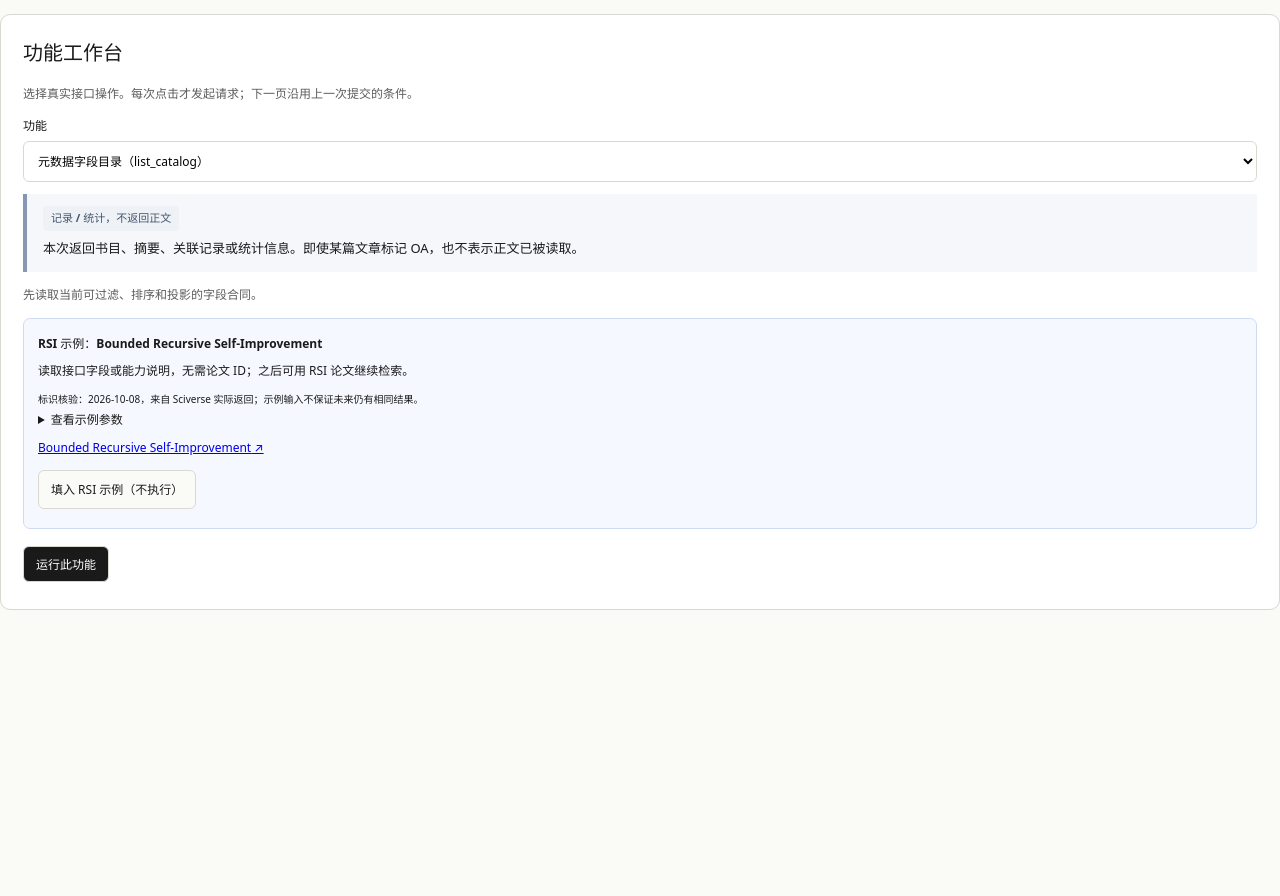
Scenario: does not mark a full request complete when the provider reports more content
The image size is (1280, 896).
Select "读取论文原文（read_content）" in the dropdown named "选择接口功能" at coordinates (640, 162), box [23,141,1257,182]
(page scrolled)
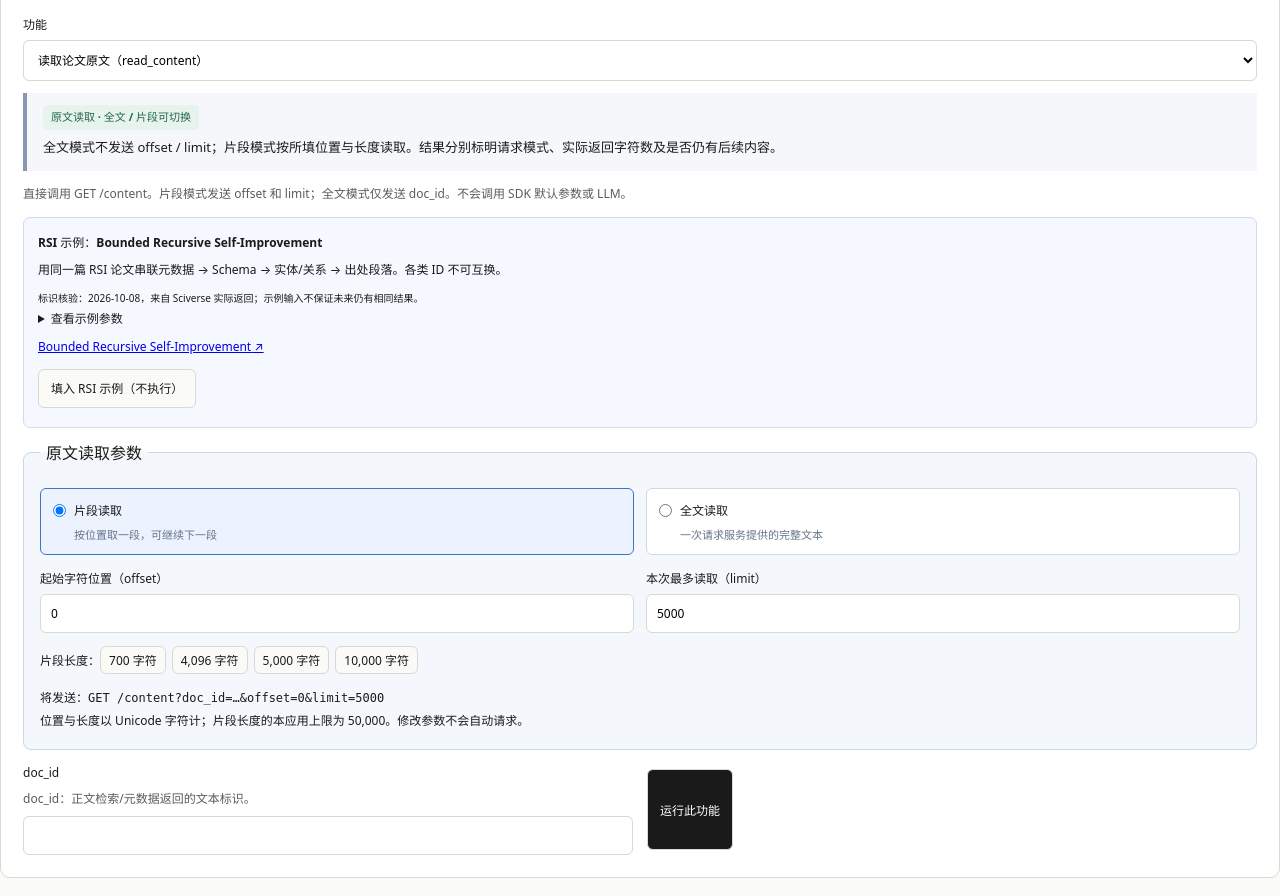
Type "doc1" into the field labelled "doc_id" at coordinates (328, 836), box [23,816,633,855]
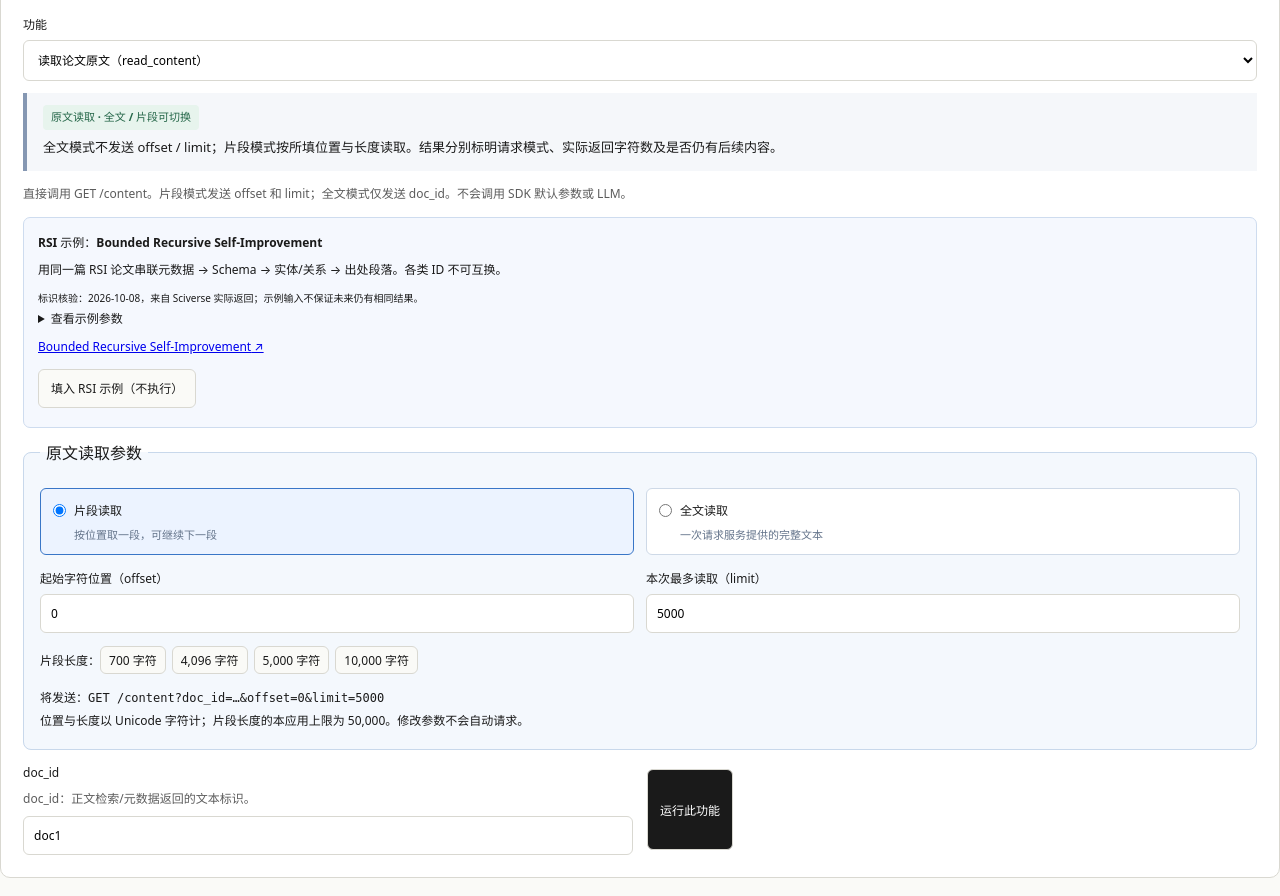
Click the radio button labelled "全文读取 一次请求服务提供的完整文本" at coordinates (666, 510), box [659,504,672,517]
(page scrolled)
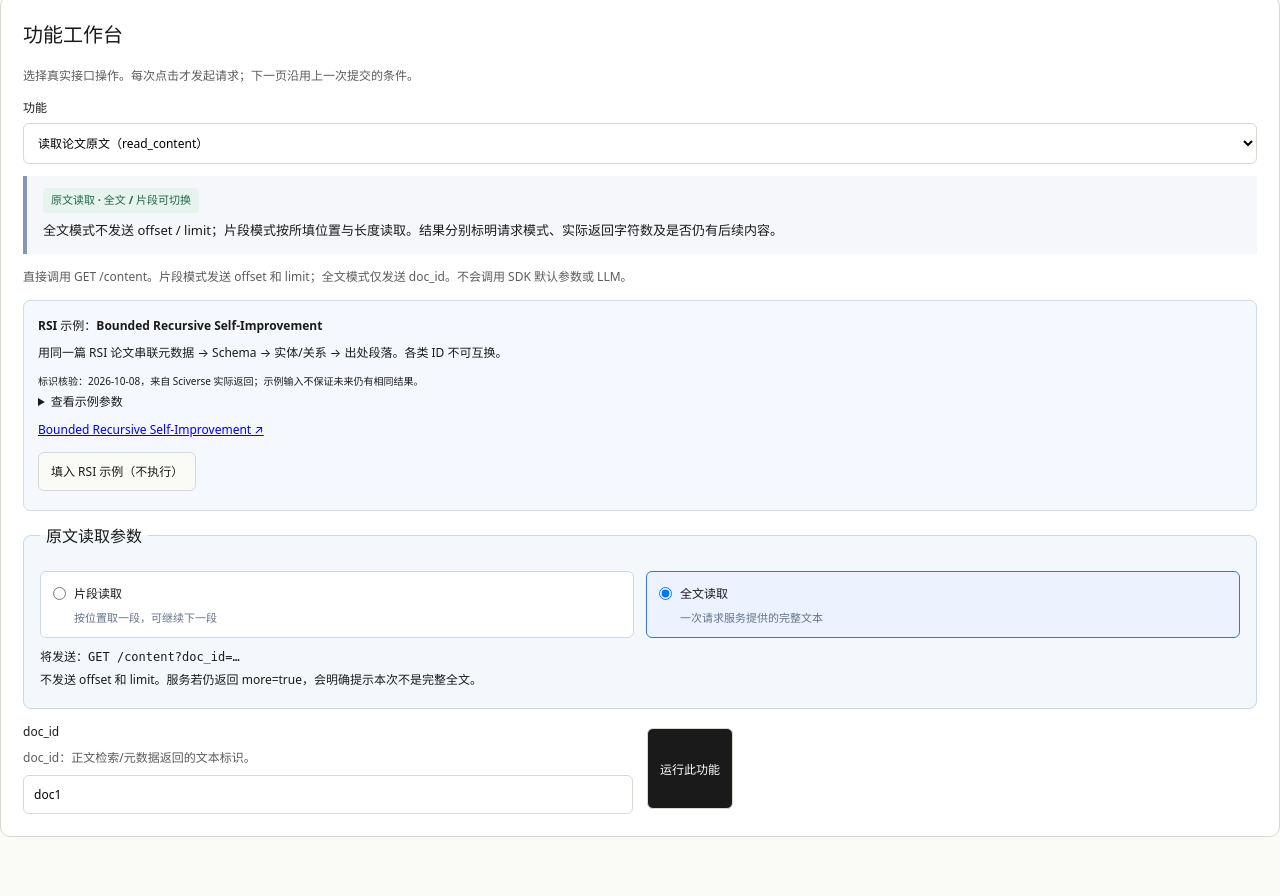
Click the button "运行此功能" at coordinates (690, 769), box [647,728,733,809]
(page scrolled)
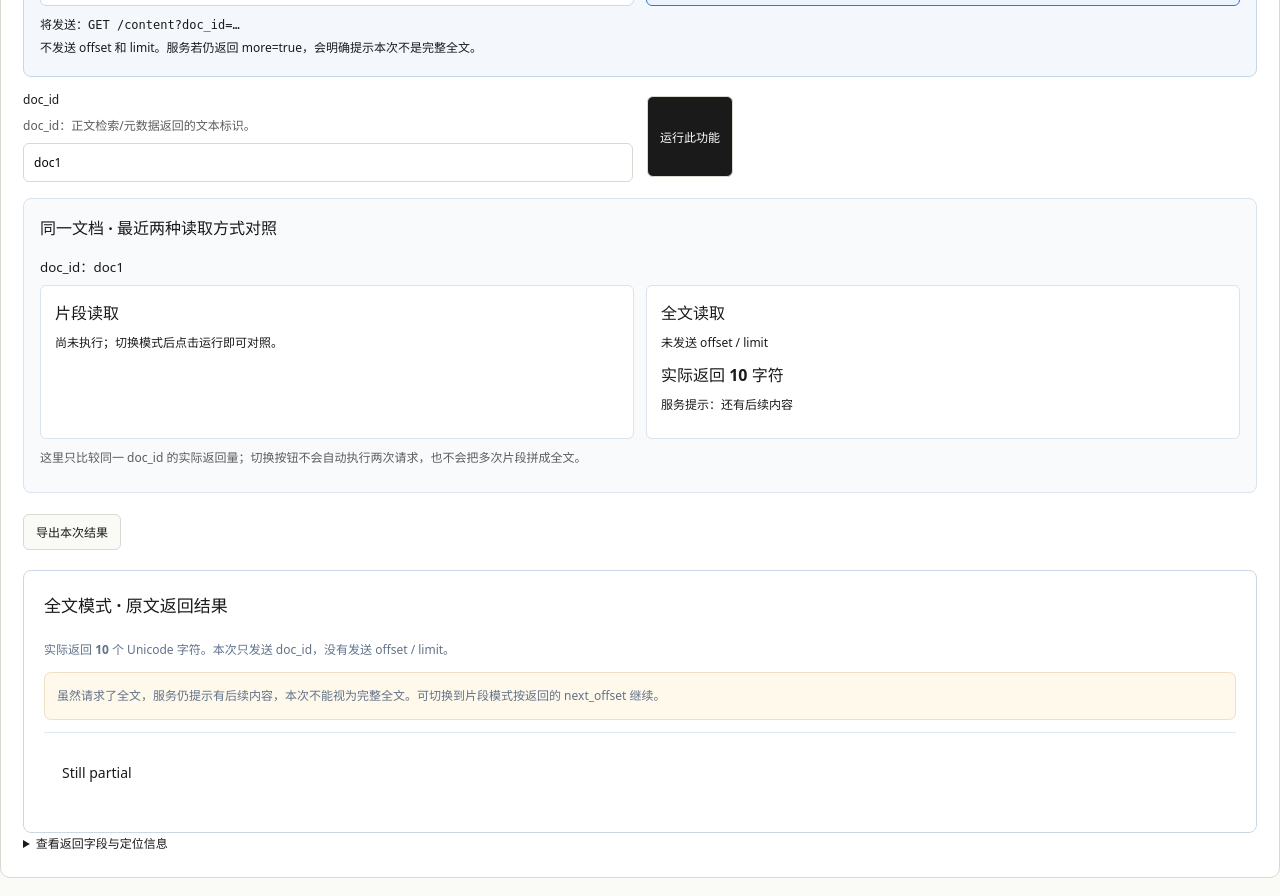
Expected: the text "虽然请求了全文，服务仍提示有后续内容，本次不能视为完整全文。可切换到片段模式按返回的 next_offset 继续。" is shown, [44,672,1236,720]
